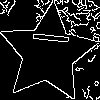I: (23, 28, 70, 47)
